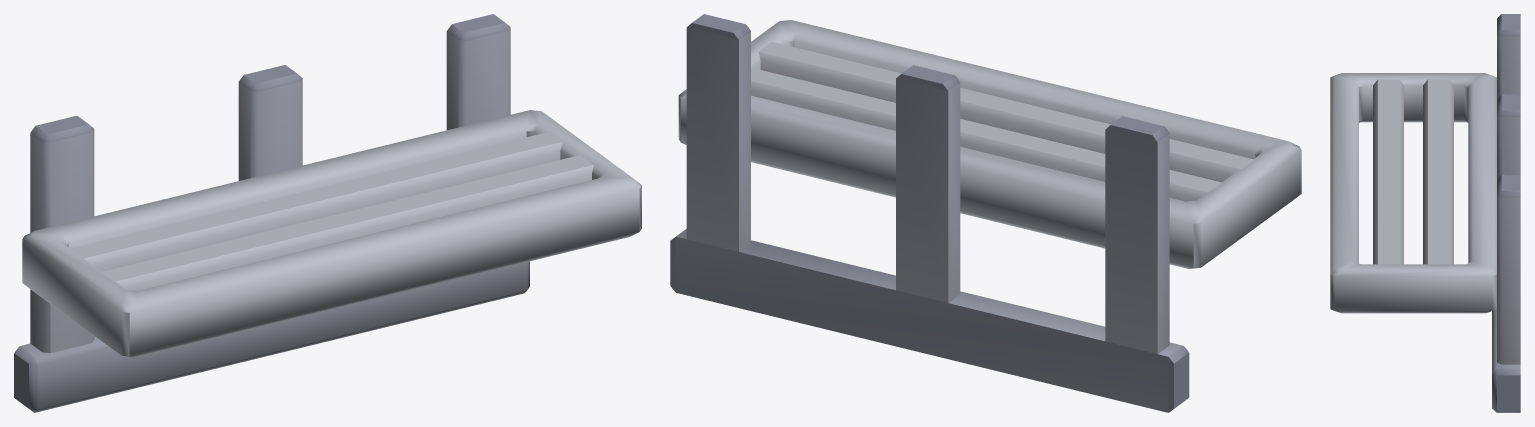
The model's file is wall-shelf-bakery-b.glb.
3 renders of one model, left to right at view 1: azimuth 30°, elevation 25°; view 2: azimuth 150°, elevation 25°; view 3: azimuth 270°, elevation 25°, orthographic. The views are drawn at different scales.
Visible parts, largest first — view 1: wall_shelf_bakery_B; view 2: wall_shelf_bakery_B; view 3: wall_shelf_bakery_B.
Boxes of the visible parts, <box> form: wall_shelf_bakery_B: <box>14,14,641,412</box>; wall_shelf_bakery_B: <box>670,14,1301,412</box>; wall_shelf_bakery_B: <box>1330,14,1520,412</box>.
Bounding box in the file's own units: 2 × 1 × 0.8.
Materials: 1 (1 with a texture image).
